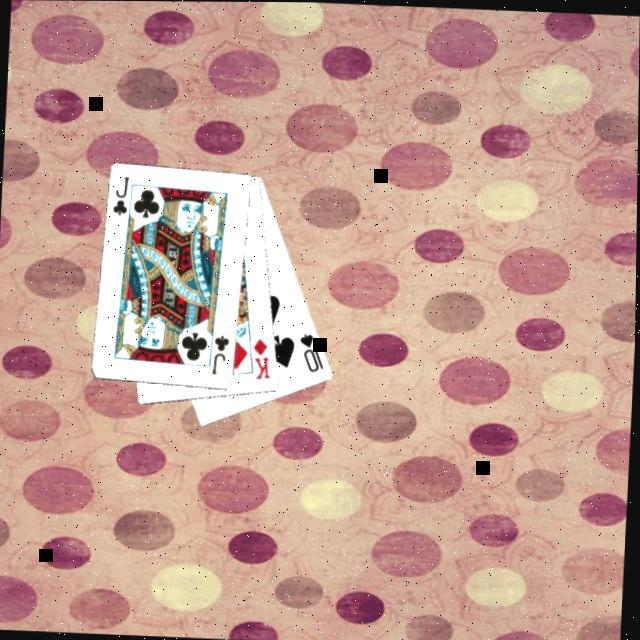10S: (294, 328, 329, 374)
JC: (208, 330, 234, 377), (108, 172, 132, 218)
KD: (248, 333, 275, 381)
